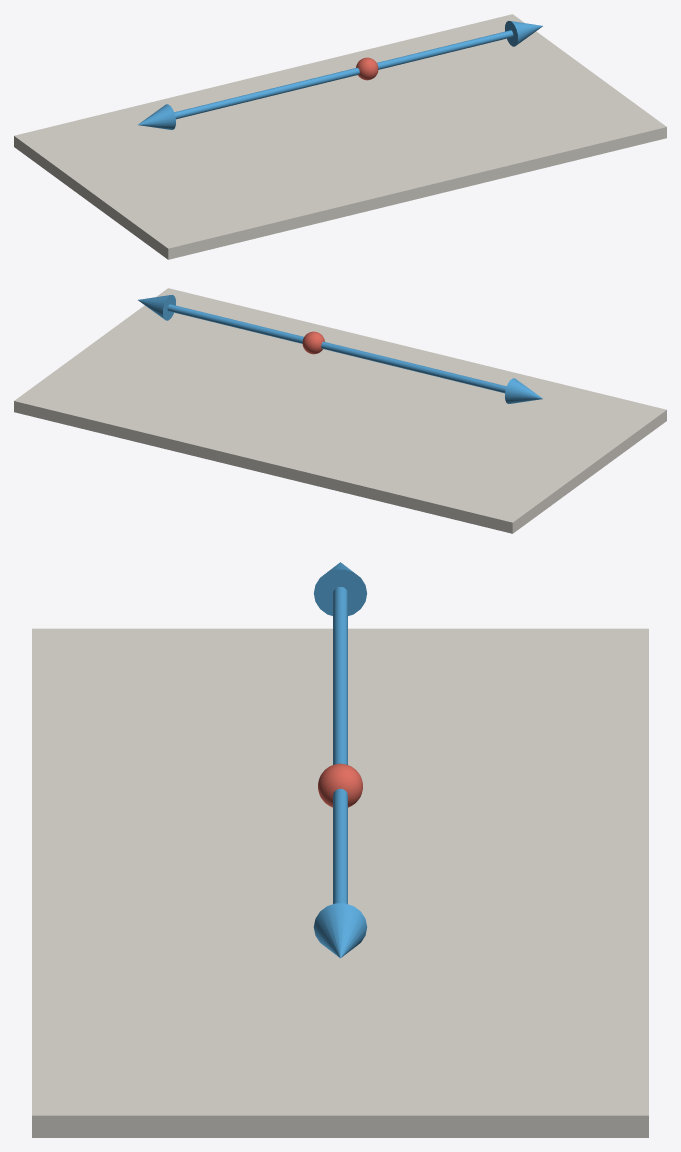
Rendered from math-geometry-line.glb.
3 renders of one model, top to bottom at view 1: azimuth 30°, elevation 25°; view 2: azimuth 150°, elevation 25°; view 3: azimuth 270°, elevation 25°, orthographic. The views are drawn at different scales.
Parts seen in each view (by area): view 1: manipulative-base, line-forward-shaft, line-back-shaft, line-back-head, line-forward-head, point-on-line; view 2: manipulative-base, line-forward-shaft, line-back-shaft, line-back-head, line-forward-head, point-on-line; view 3: manipulative-base, line-forward-shaft, line-forward-head, line-back-shaft, line-back-head, point-on-line.
Boxes of the visible parts, x1,y1,x2,y2 form: manipulative-base: (14, 14, 666, 259); line-forward-shaft: (174, 30, 513, 119); line-back-shaft: (175, 31, 511, 117); line-back-head: (138, 104, 175, 129); line-forward-head: (505, 21, 542, 46); point-on-line: (356, 57, 378, 80); manipulative-base: (14, 288, 666, 533); line-forward-shaft: (167, 304, 506, 393); line-back-shaft: (168, 305, 504, 391); line-back-head: (505, 378, 542, 403); line-forward-head: (138, 295, 175, 320); point-on-line: (302, 331, 324, 354); manipulative-base: (32, 628, 648, 1137); line-forward-shaft: (333, 587, 347, 903); line-forward-head: (313, 903, 367, 958); line-back-shaft: (333, 587, 347, 903); line-back-head: (313, 562, 367, 615); point-on-line: (318, 763, 362, 807).
Size of what is drawn, in the model's own units: 2.8 by 0.424 by 1.5.
